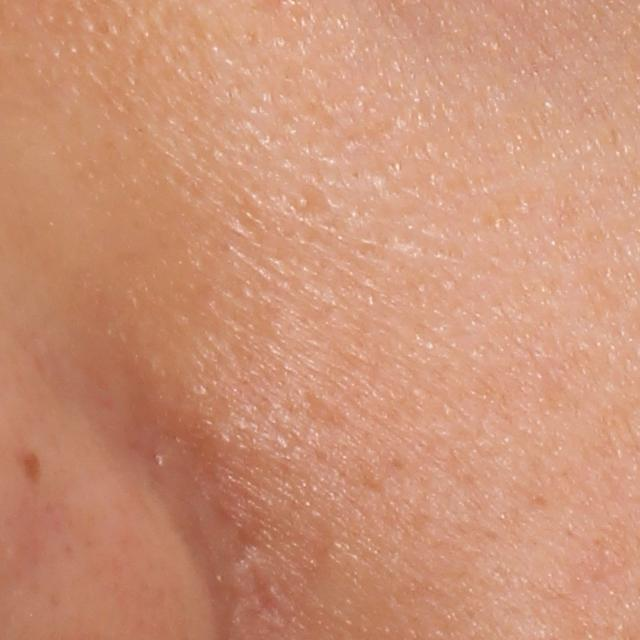comedo: (288, 185, 319, 215)
melasma: (14, 440, 45, 487)
